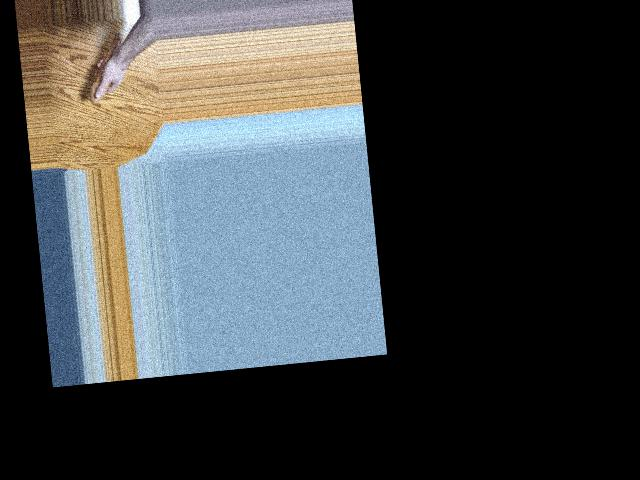sweet_potato: (85, 30, 129, 100)
